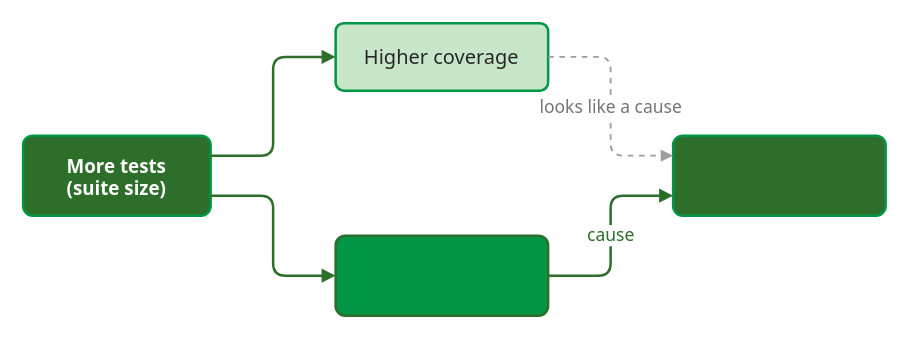
The diagram is 908 pixels wide and 338 high, and some of its shapes have lost their labels. Each missing label, with the centre of its shape:
More assertions (stronger oracle): the point at 441,275
More faults found: the point at 778,175
